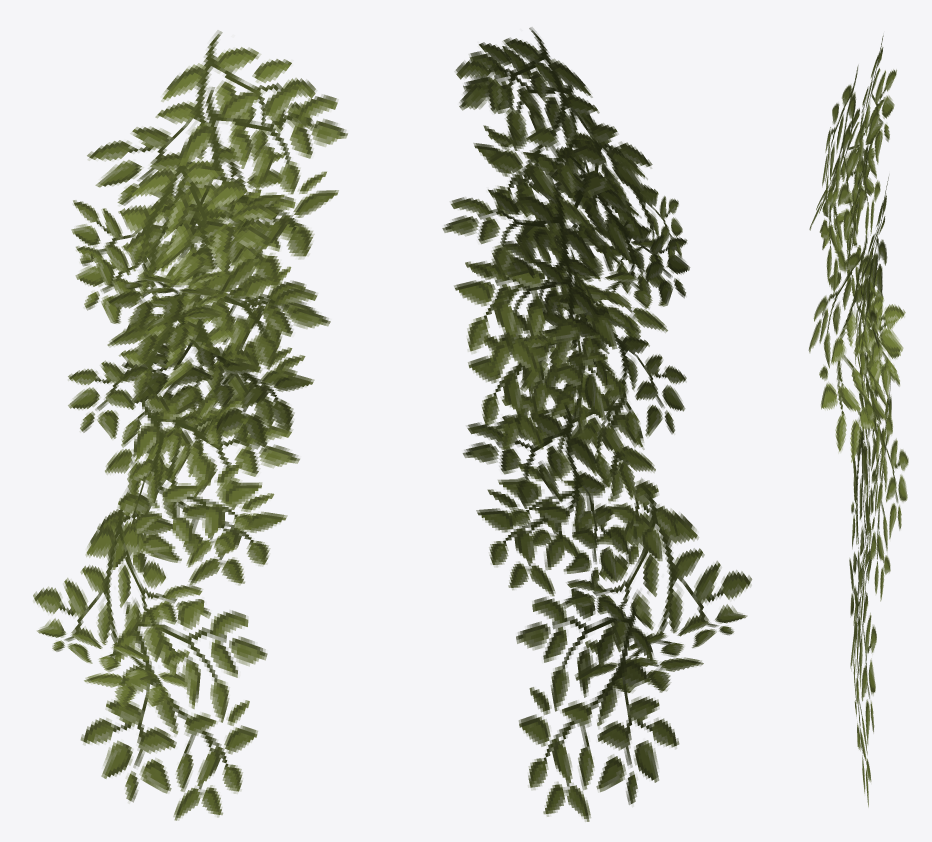
File: vine_hanging.glb
The picture shows the model from 3 angles, left to right: view 1: azimuth 30°, elevation 25°; view 2: azimuth 150°, elevation 25°; view 3: azimuth 270°, elevation 25°; orthographic projection.
Visible parts, largest first — view 1: vine_hanging; view 2: vine_hanging; view 3: vine_hanging.
Part boxes in pixels (x1=…): vine_hanging: x1=33, y1=30, x2=347, y2=820; vine_hanging: x1=442, y1=27, x2=751, y2=821; vine_hanging: x1=808, y1=35, x2=908, y2=806.
Size of the model in its own units: 1.06 by 2.35 by 0.3142.
Materials: 1 (1 with a texture image).
